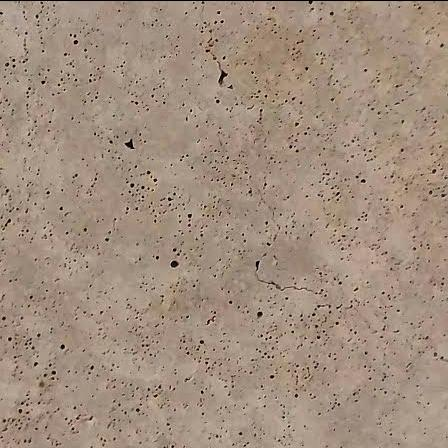crack: (207, 101, 322, 313), (190, 0, 233, 91)
